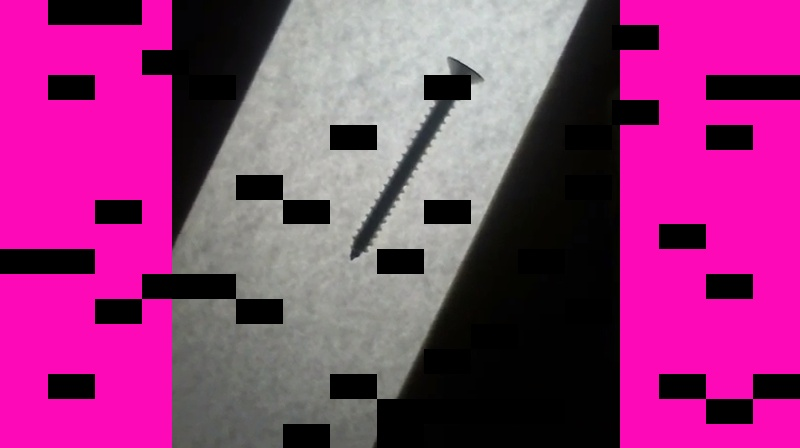S002: (346, 51, 486, 263)
